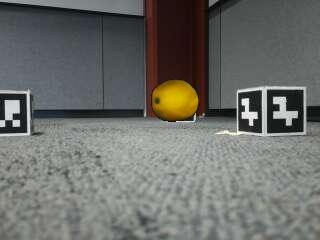lemon: (152, 81, 199, 121)
